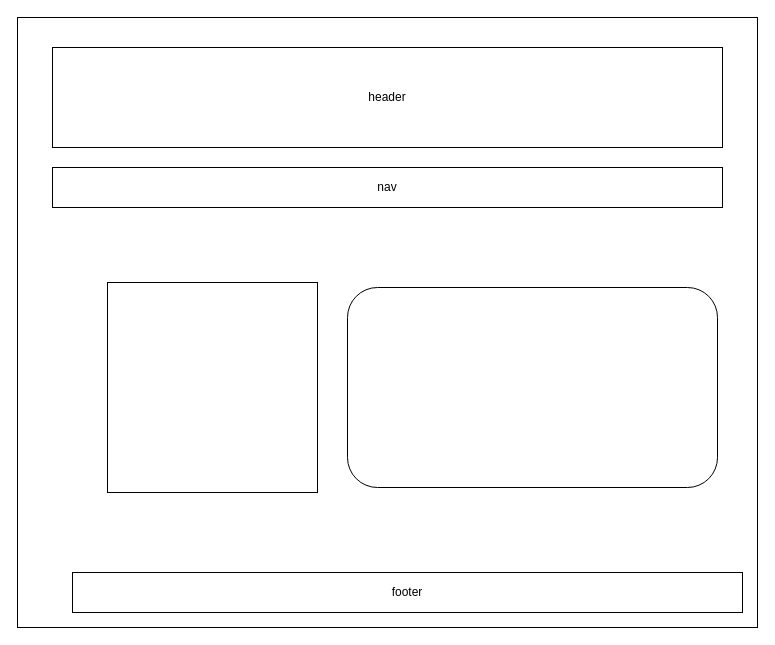
The diagram is 775 pixels wide and 645 high, and some of its shapes have lost their labels. The shapes that lost their labels are listed below. From the top down, each one's centre as x and y in pixels, then its label:
point (212, 387): section
point (532, 387): article
